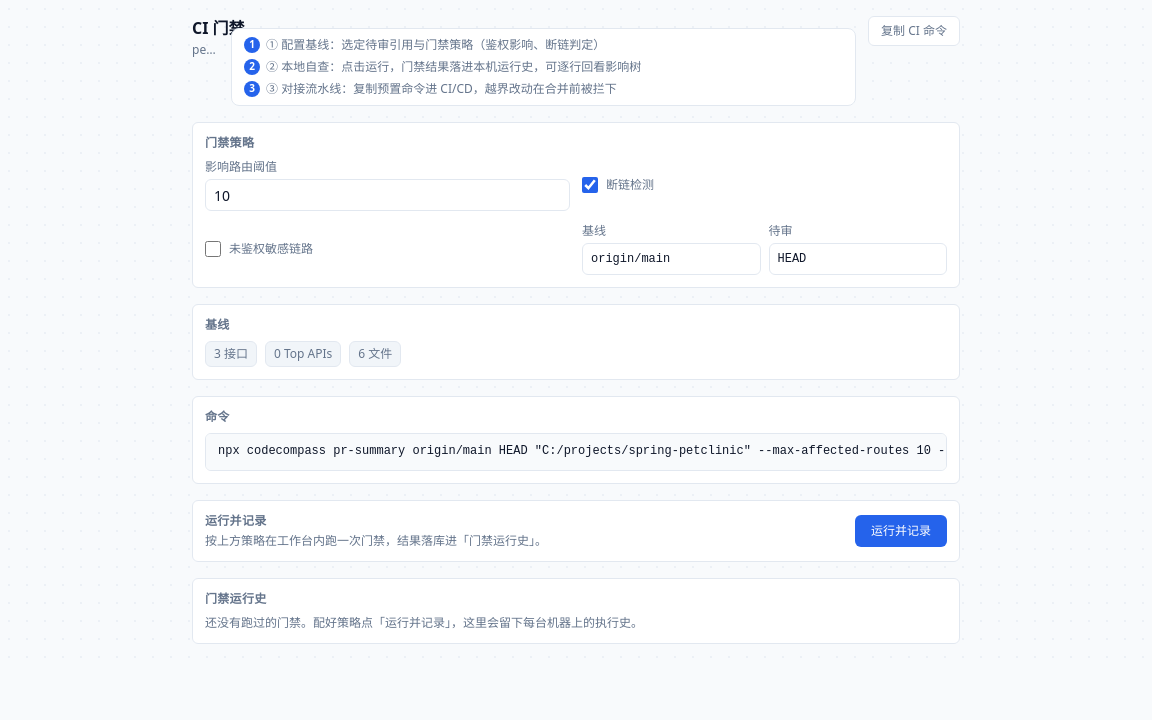
it: CiGateView (v0.26-B ticket 02 — 三段化：运行并记录 + 门禁运行史) › shows a folded 人话 error row and re-enables retry after a 400
This screenshot has width=1152, height=720.
Expected: the text "还没有跑过的门禁。配好策略点「运行并记录」，这里会留下每台机器上的执行史。" is shown, x1=205 y1=614 x2=643 y2=630
Click the button with test id "gate-run": point(901, 530) x1=855 y1=514 x2=947 y2=546
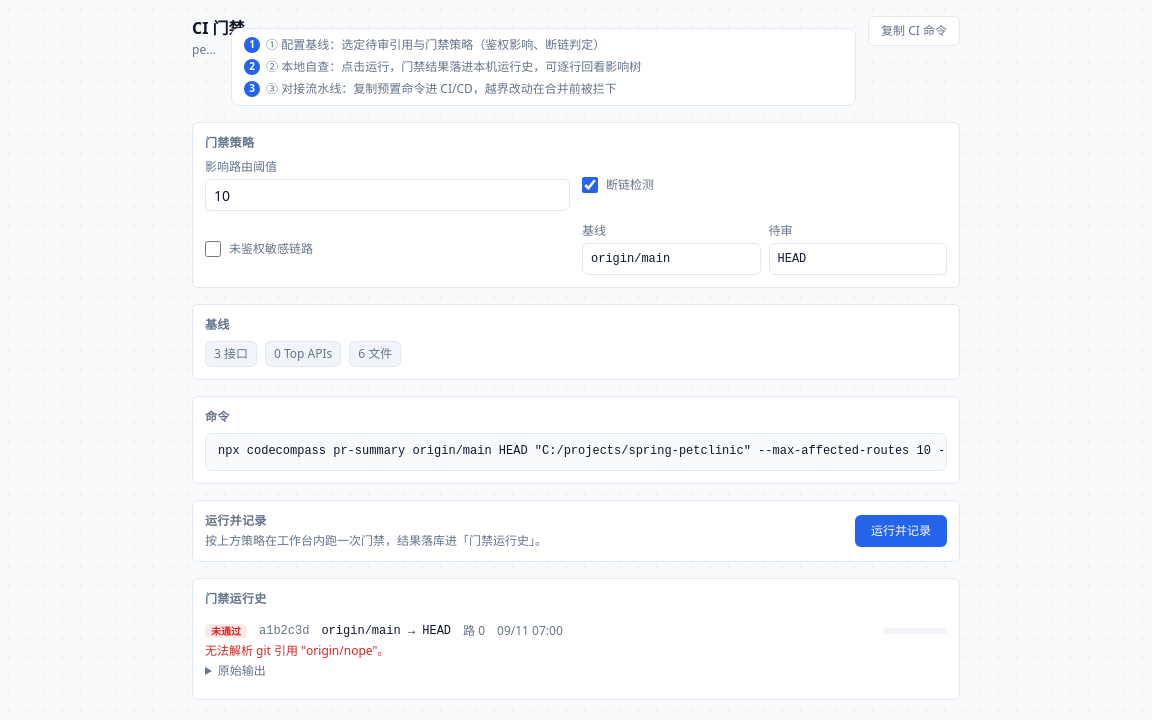
Result: the element with test id "gate-run-error" shows "无法解析 git 引用 \"origin/nope\"。" at x1=205 y1=642 x2=389 y2=658
Result: the heading "原始输出" is shown at x1=218 y1=662 x2=266 y2=678
